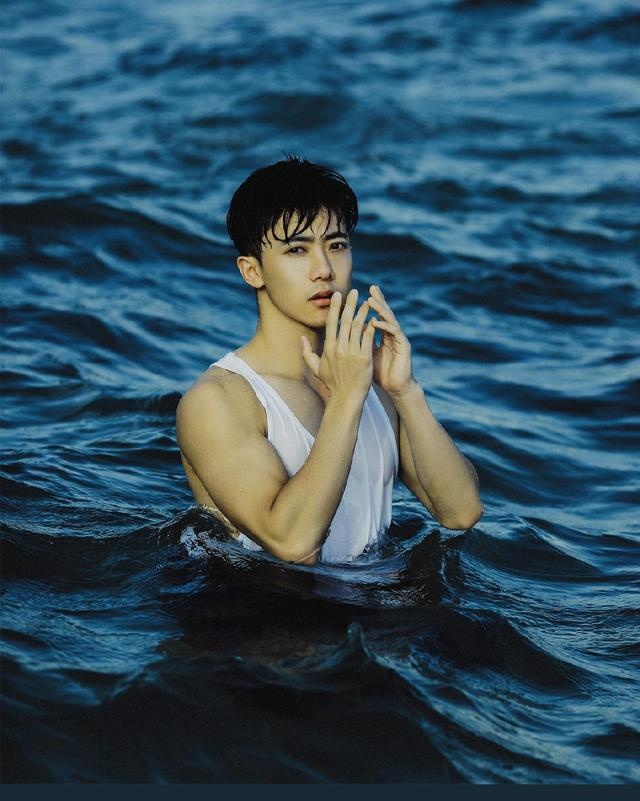person: (205, 134, 476, 612)
